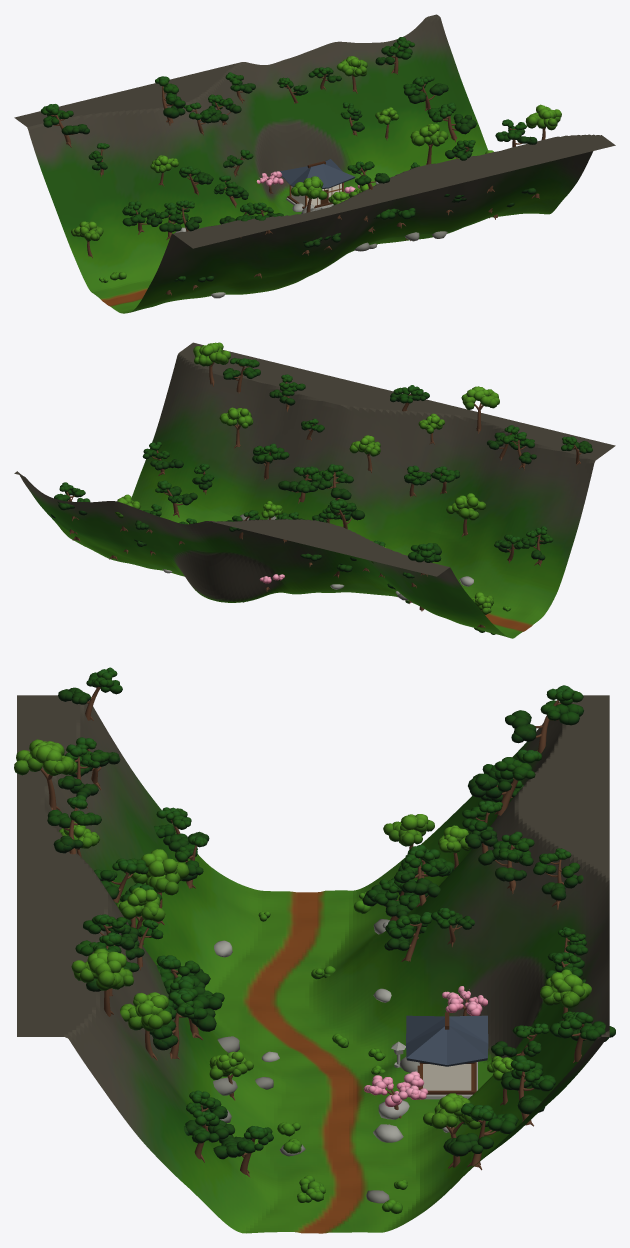
Rendered from valley.glb.
3 views of the same model, one above another, from view 1: azimuth 30°, elevation 25°; view 2: azimuth 150°, elevation 25°; view 3: azimuth 270°, elevation 25° (orthographic). The views are drawn at different scales.
Parts seen in each view (by area): view 1: Ground, Roof, PineLeaves.013, PineLeaves.030, PineLeaves.019, PineLeaves.032, PineLeaves.022, TreeLeaves.003, TreeLeaves, PineLeaves.010, TreeLeaves.011, PineLeaves.026 (+8 smaller); view 2: Ground, PineLeaves.002, TreeLeaves.003, PineLeaves.018, TreeLeaves.007, TreeLeaves.011, PineLeaves.009, PineLeaves.013, PineLeaves.023, PineLeaves.026, PineLeaves.021, PineLeaves.032 (+7 smaller); view 3: Ground, Roof, PineLeaves.032, PineLeaves.013, PineLeaves.030, TreeLeaves.003, TreeLeaves.011, PineLeaves.019, PineLeaves.031, TreeLeaves.007, PineLeaves.005, TreeLeaves.005 (+27 smaller).
Part boxes in pixels (box(x1,y1,x2,y2)): Ground: box(14, 14, 615, 313); Roof: box(280, 159, 355, 188); PineLeaves.013: box(40, 104, 89, 135); PineLeaves.030: box(427, 102, 476, 134); PineLeaves.019: box(403, 76, 448, 103); PineLeaves.032: box(155, 76, 185, 118); PineLeaves.022: box(122, 201, 162, 226); TreeLeaves.003: box(525, 104, 561, 130); TreeLeaves: box(410, 123, 448, 146); PineLeaves.010: box(375, 37, 414, 65); TreeLeaves.011: box(291, 176, 327, 199); PineLeaves.026: box(495, 119, 537, 144); Ground: box(14, 342, 615, 638); PineLeaves.002: box(311, 464, 353, 499); TreeLeaves.003: box(193, 342, 230, 366); PineLeaves.018: box(278, 466, 323, 493); TreeLeaves.007: box(446, 493, 486, 520); TreeLeaves.011: box(461, 386, 499, 409); PineLeaves.009: box(142, 441, 183, 470); PineLeaves.013: box(408, 543, 441, 562); PineLeaves.023: box(269, 374, 305, 405); PineLeaves.026: box(223, 357, 260, 379); PineLeaves.021: box(252, 443, 289, 463); PineLeaves.032: box(325, 498, 364, 520); Ground: box(17, 695, 609, 1233); Roof: box(406, 1015, 488, 1066); PineLeaves.032: box(468, 749, 542, 798); PineLeaves.013: box(505, 685, 583, 743); PineLeaves.030: box(443, 1103, 518, 1156); TreeLeaves.003: box(71, 948, 133, 990); TreeLeaves.011: box(14, 739, 77, 775); PineLeaves.019: box(501, 1055, 556, 1114); PineLeaves.031: box(478, 831, 534, 881); TreeLeaves.007: box(129, 849, 189, 895); PineLeaves.005: box(394, 844, 450, 897); TreeLeaves.005: box(120, 992, 171, 1031).
Size of the model in its own units: 60.03 by 21.01 by 44.7.
